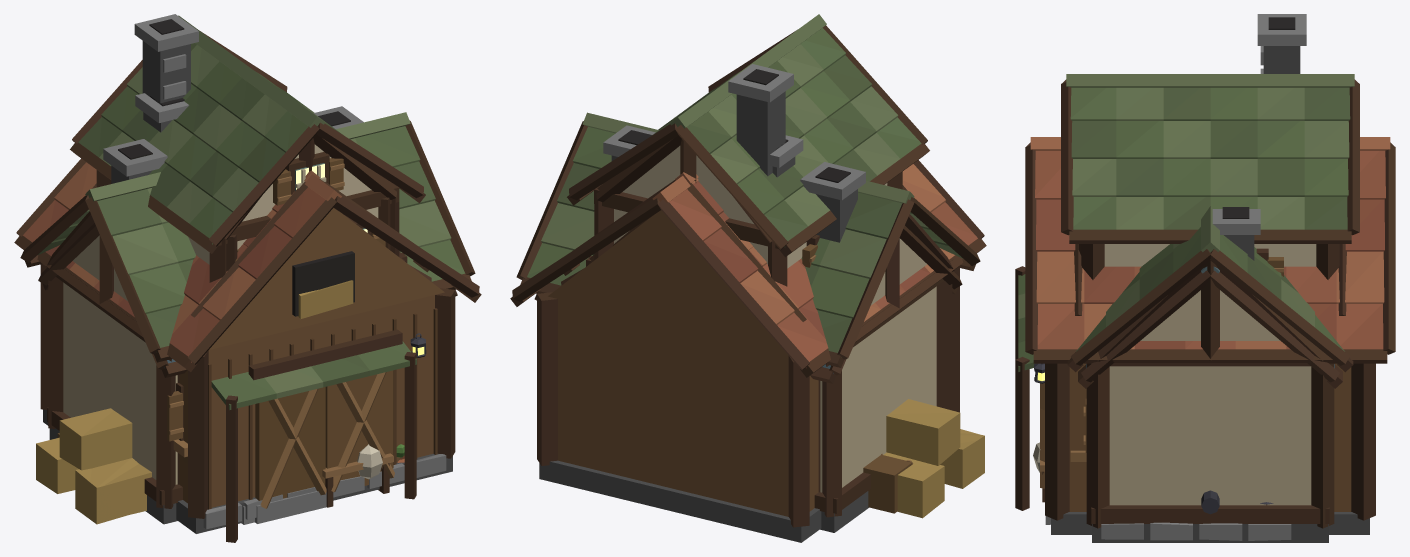
The model's file is town_homes.glb.
3 views of the same model, side by side, from view 1: azimuth 30°, elevation 25°; view 2: azimuth 150°, elevation 25°; view 3: azimuth 270°, elevation 25° (orthographic). The views are drawn at different scales.
Parts seen in each view (by area): view 1: town_barn_a, town_cottage_d, town_cottage_c, town_watermill_a, town_cottage_b; view 2: town_barn_a, town_cottage_d, town_cottage_c, town_cottage_b, town_watermill_a; view 3: town_cottage_d, town_cottage_c, town_barn_a, town_cottage_b, town_watermill_a.
Boxes of the visible parts, x1,y1,x2,y2 form: town_barn_a: [14, 158, 481, 533]; town_cottage_d: [20, 112, 475, 542]; town_cottage_c: [70, 14, 425, 523]; town_watermill_a: [92, 93, 428, 479]; town_cottage_b: [38, 106, 457, 484]; town_barn_a: [510, 160, 986, 542]; town_cottage_d: [516, 112, 980, 532]; town_cottage_c: [567, 14, 929, 286]; town_cottage_b: [534, 125, 962, 513]; town_watermill_a: [564, 135, 907, 321]; town_cottage_d: [1015, 206, 1353, 542]; town_cottage_c: [1061, 14, 1359, 279]; town_barn_a: [1025, 137, 1395, 534]; town_cottage_b: [1078, 207, 1342, 388]; town_watermill_a: [1033, 244, 1346, 514].
Bounding box in the file's own units: 4.16 × 4.58 × 3.72.
